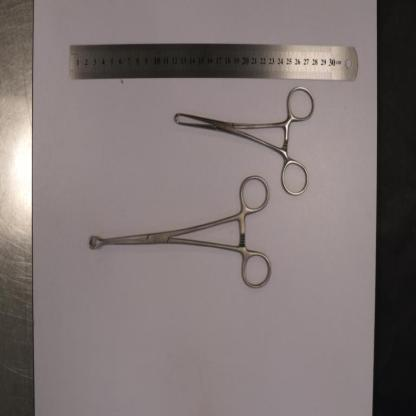8 Babcock Tissue Forceps: (88, 176, 272, 288)
Allis Tissue Forceps: (174, 83, 315, 198)
